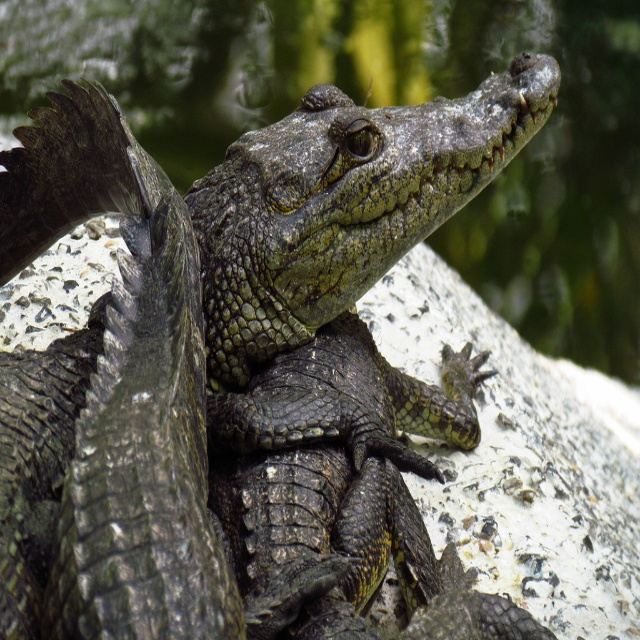Crocodile: (0, 51, 561, 640)
